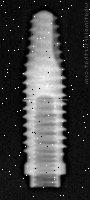Neodent: (21, 9, 68, 188)
